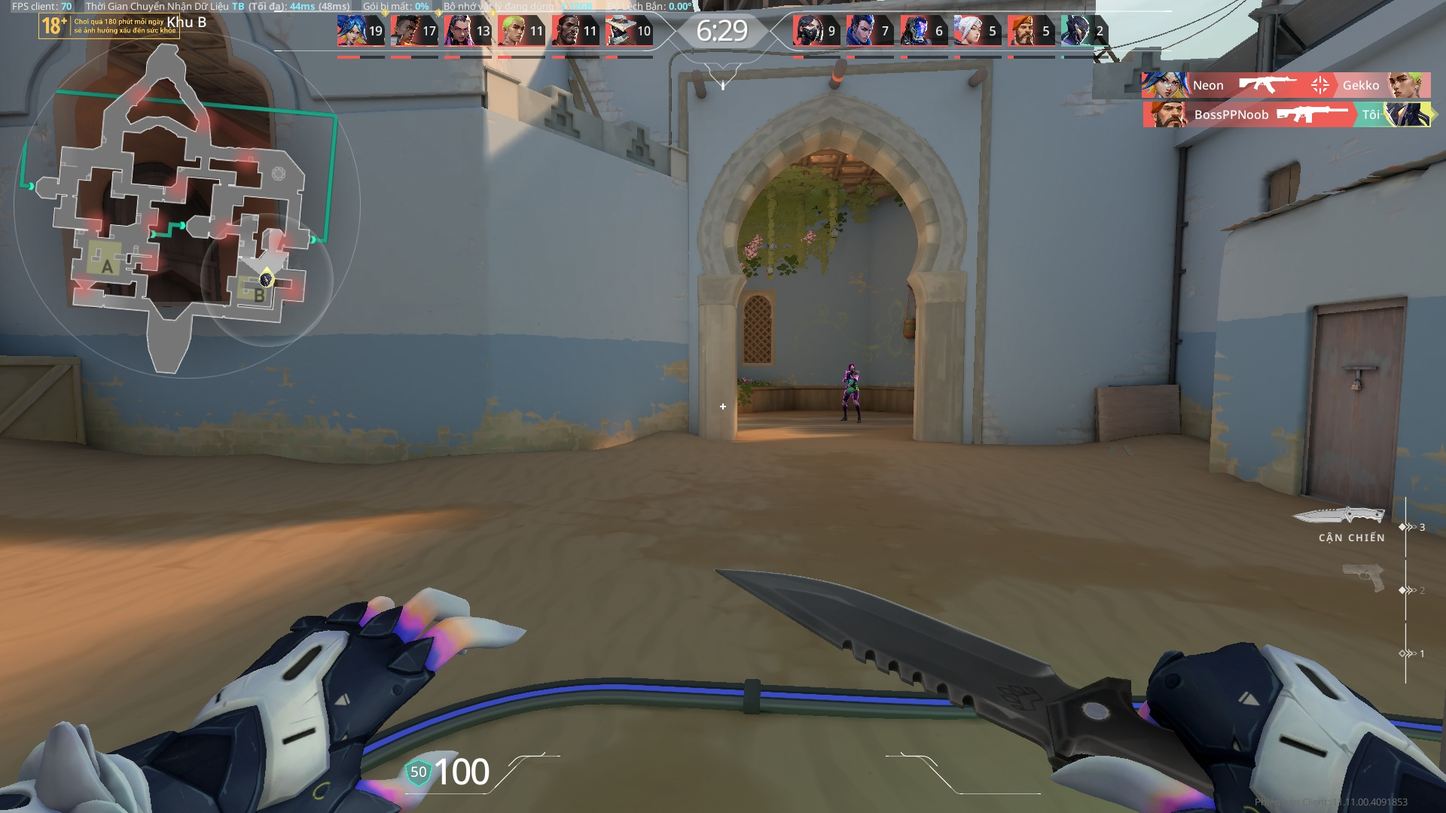body: (842, 365, 859, 390)
head: (847, 361, 859, 370)
